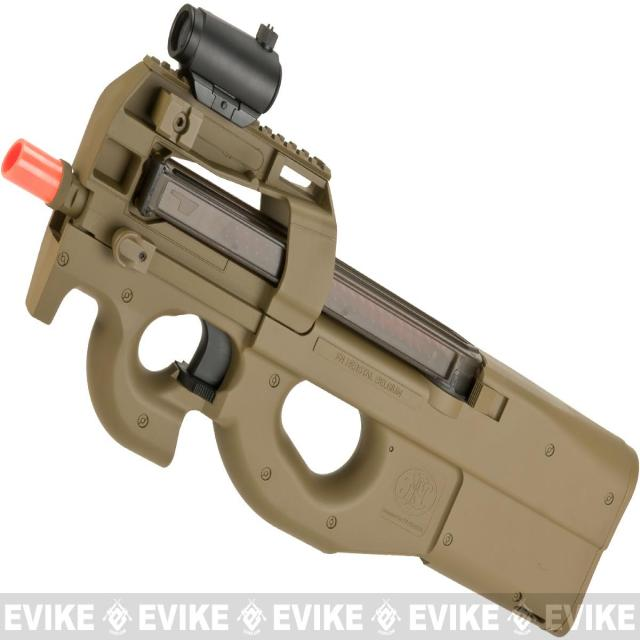SMG: (5, 6, 640, 639)
